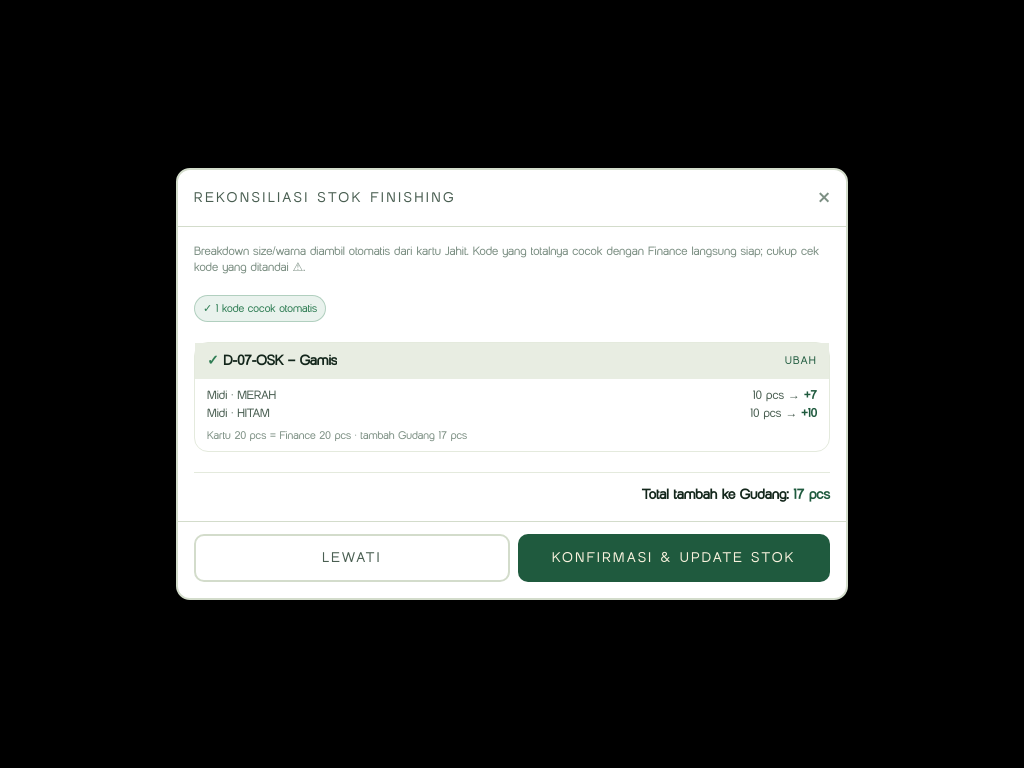
it: FinishingStockModal (permintaan Denny 2026-09) › recalculates qtyDitambahkan when editing qtyKartu of an existing row
Expected: the text "✓ D-07-OSK — Gamis" is shown, [207, 350, 337, 370]
Click the button "Ubah" at (801, 361), box [785, 352, 817, 369]
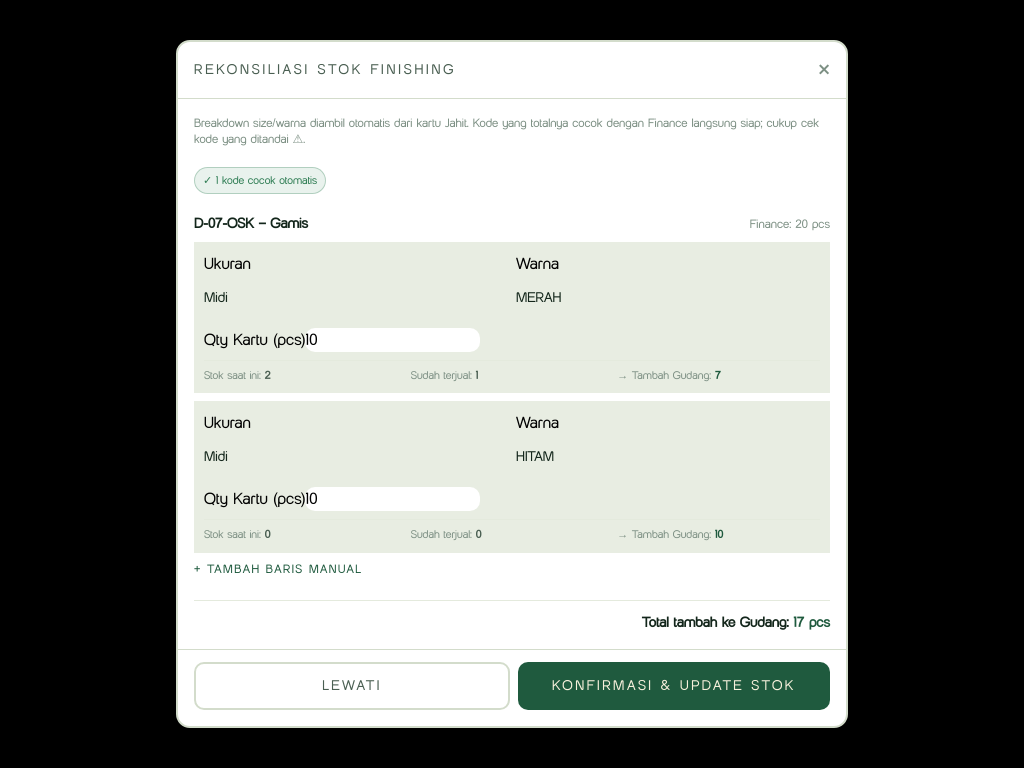
Replace the text in the number field below "MERAH" with "5" at (393, 340), box [305, 328, 480, 352]
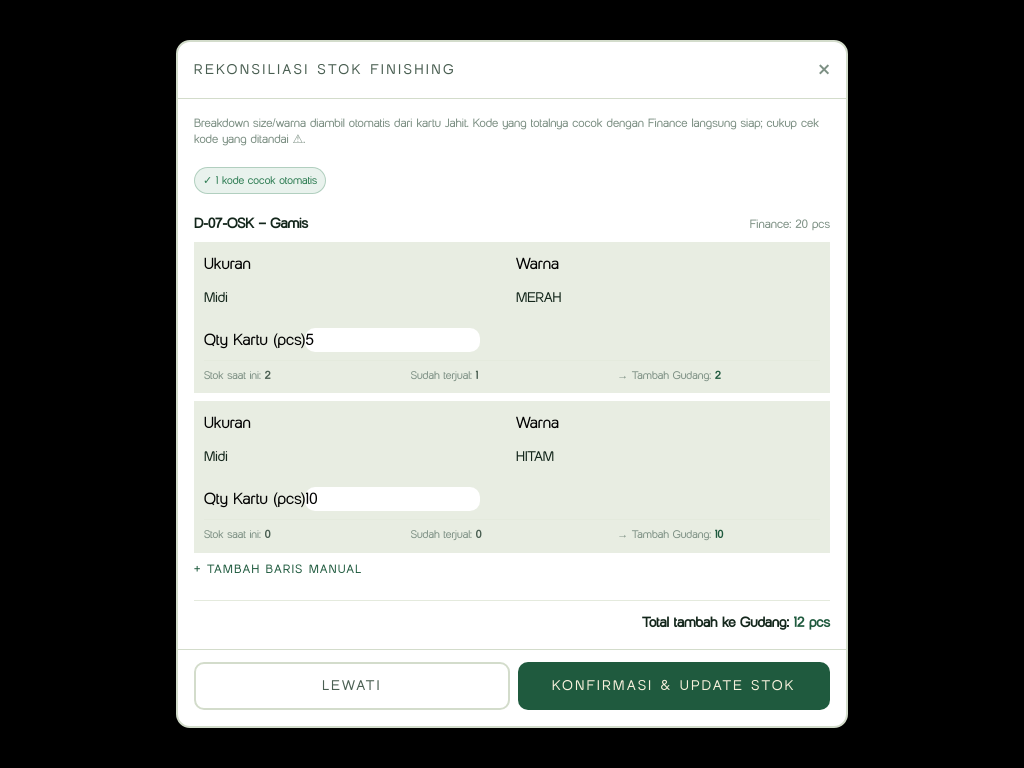
Expected: the text "12 pcs" is shown, [794, 614, 830, 631]
